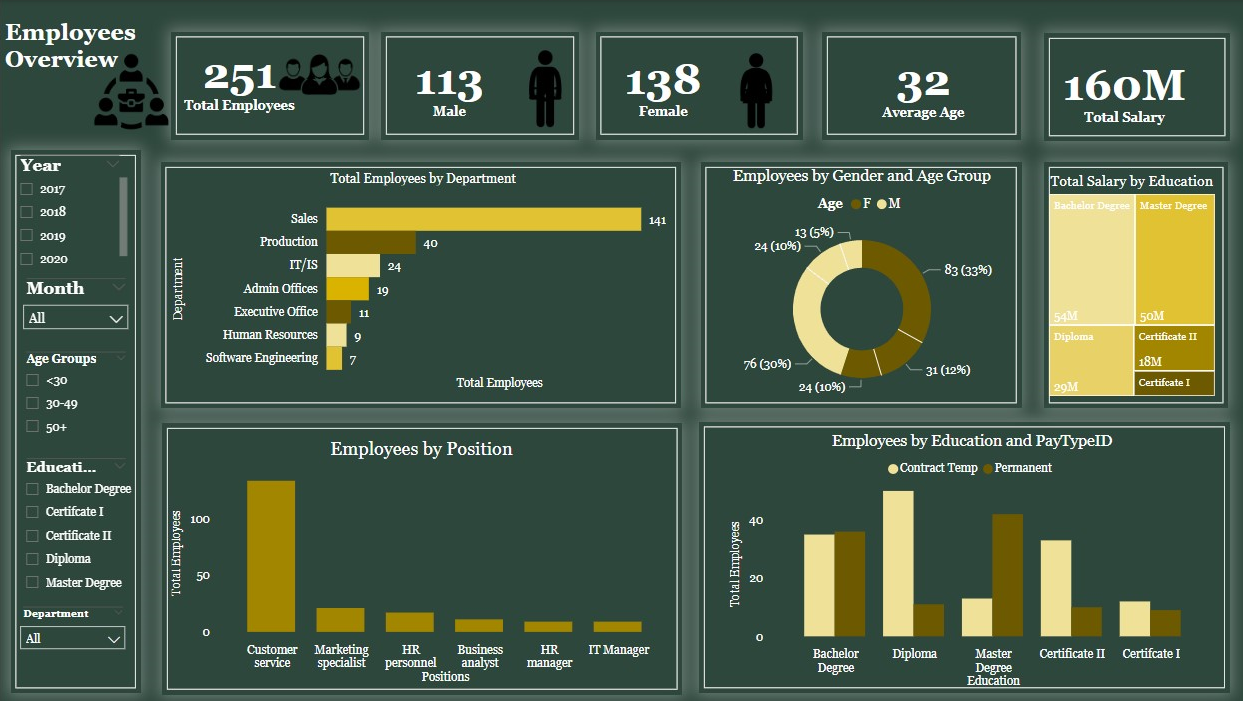

What the dashboard file says about the page in this screenshot:
{"tool":"powerbi","page":{"name":"Employees Overview","canvas":[1280,720],"ordinal":0},"visuals":[{"type":"shape","box":[10.7,153.5,133.6,555.7],"z":0},{"type":"shape","box":[841.3,32.2,204.2,110.5],"z":1000},{"type":"shape","box":[389.9,32.2,202.6,110.5],"z":2000},{"type":"shape","box":[609.5,32.2,211.9,110.5],"z":3000},{"type":"shape","box":[999.4,165.8,259.4,251.8],"z":4000},{"type":"shape","box":[175,32.2,202.6,110.5],"z":5000},{"type":"shape","box":[715.4,165.8,271.7,251.8],"z":6000},{"type":"shape","box":[715.4,431.4,543.5,277.9],"z":7000},{"type":"shape","box":[164.3,165.8,532.7,251.8],"z":8000},{"type":"shape","box":[165.8,432.9,532.7,277.9],"z":9000},{"type":"textbox","box":[0,13.8,207.2,110.5],"z":10000},{"type":"card","fields":{"Values":["#DAX.Total Employees"]},"box":[162.7,33.8,164.3,90.6],"z":11000},{"type":"card","fields":{"Values":["#DAX.Total Salary"]},"box":[1068.5,46.1,164.3,90.6],"z":12000},{"type":"card","fields":{"Values":["#DAX.Average Age"]},"box":[862.8,41.4,164.3,90.6],"z":13000},{"type":"card","fields":{"Values":["#DAX.Male"]},"box":[377.7,39.9,164.3,90.6],"z":14000},{"type":"card","fields":{"Values":["#DAX.Female"]},"box":[583.4,32.2,190.4,105.9],"z":15000},{"type":"shape","box":[1068.5,33.8,190.4,110.5],"z":16000},{"type":"slicer","fields":{"Values":["AgeGroup.Age Group"]},"box":[13.8,354.6,127.4,98.3],"z":17000},{"type":"image","box":[30.7,46.1,207.2,95.2],"z":18000},{"type":"image","box":[276.3,27.6,101.3,96.7],"z":19000},{"type":"image","box":[506.6,44.5,102.9,92.1],"z":20000},{"type":"image","box":[726.1,47.6,95.2,90.6],"z":21000},{"type":"slicer","fields":{"Values":["Calendar.Month Name"]},"box":[13.8,279.4,127.4,67.5],"z":22000},{"type":"slicer","fields":{"Values":["Calendar.Year"]},"box":[7.7,153.5,127.4,125.9],"z":23000},{"type":"slicer","fields":{"Values":["Department.Department"]},"box":[10.7,615.6,127.4,62.9],"z":24000},{"type":"slicer","fields":{"Values":["Education.Education"]},"box":[13.8,463.6,127.4,152],"z":25000},{"type":"donutChart","fields":{"Y":["#DAX.Total Employees"],"Category":["Education.Education"]},"box":[997.9,168.9,261,234.9],"z":26000},{"type":"donutChart","fields":{"Y":["#DAX.Total Employees"],"Series":["Department.Department"]},"box":[715.4,170.4,271.7,233.3],"z":27000},{"type":"clusteredColumnChart","title":"Employees by Education and PayTypeID","fields":{"Y":["#DAX.Total Employees"],"Category":["Education.Education"],"Series":["Employees.PayTypeID"]},"box":[733.8,442.1,506.6,267.1],"z":28000},{"type":"clusteredBarChart","title":"Employees by Gender and Age Group","fields":{"Category":["Employees.Gender"],"Y":["#DAX.Total Employees"],"Series":["AgeGroup.Age Group"]},"box":[175,170.4,503.5,233.3],"z":29000},{"type":"lineStackedColumnComboChart","title":"Employees by Position","fields":{"Category":["Position.Position"],"Y":["#DAX.Total Employees"]},"box":[171.9,442.1,522,256.4],"z":30000}]}

Visuals, with their boxes in screenshot pixels (x1, y1, x2, y2), scaled from the page's 1280x720 canvas onto the 1243x701 screenshot:
shape: (10,149,140,690)
shape: (817,31,1015,139)
shape: (379,31,575,139)
shape: (592,31,798,139)
shape: (971,161,1222,407)
shape: (170,31,367,139)
shape: (695,161,959,407)
shape: (695,420,1223,691)
shape: (160,161,677,407)
shape: (161,421,678,692)
textbox: (0,13,201,121)
card - #DAX.Total Employees: (158,33,318,121)
card - #DAX.Total Salary: (1038,45,1197,133)
card - #DAX.Average Age: (838,40,997,129)
card - #DAX.Male: (367,39,526,127)
card - #DAX.Female: (567,31,751,134)
shape: (1038,33,1223,140)
slicer - AgeGroup.Age Group: (13,345,137,441)
image: (30,45,231,138)
image: (268,27,367,121)
image: (492,43,592,133)
image: (705,46,798,135)
slicer - Calendar.Month Name: (13,272,137,338)
slicer - Calendar.Year: (7,149,131,272)
slicer - Department.Department: (10,599,134,661)
slicer - Education.Education: (13,451,137,599)
donutChart - #DAX.Total Employees x Education.Education: (969,164,1223,393)
donutChart - #DAX.Total Employees x Department.Department: (695,166,959,393)
"Employees by Education and PayTypeID" clusteredColumnChart: (713,430,1205,690)
"Employees by Gender and Age Group" clusteredBarChart: (170,166,659,393)
"Employees by Position" lineStackedColumnComboChart: (167,430,674,680)
